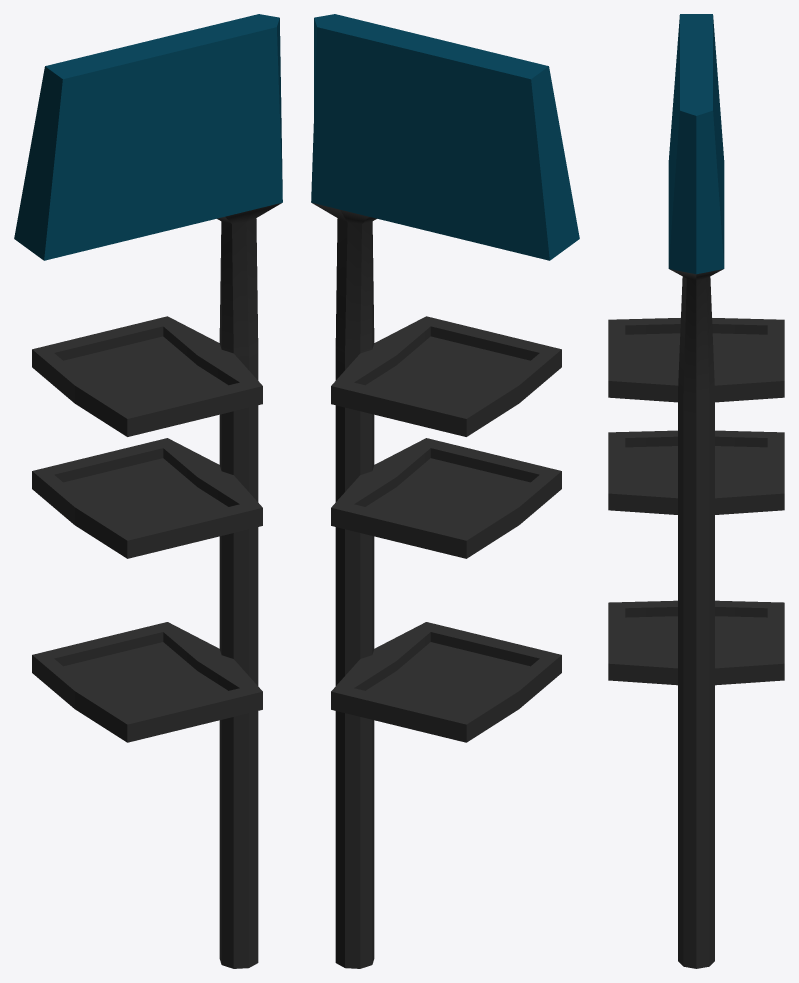
File: CounterNum.fbx
The picture shows the model from 3 angles, left to right: view 1: azimuth 30°, elevation 25°; view 2: azimuth 150°, elevation 25°; view 3: azimuth 270°, elevation 25°; orthographic projection. The views are drawn at different scales.
Parts seen in each view (by area): view 1: pCylinder12; view 2: pCylinder12; view 3: pCylinder12.
Part boxes in pixels (x1,y1,x2,y2): pCylinder12: [14, 14, 282, 968]; pCylinder12: [311, 14, 579, 968]; pCylinder12: [608, 14, 784, 968].
Size of the model in its own units: 3.3 by 11.75 by 2.17.
Materials: 2 (1 with a texture image).
